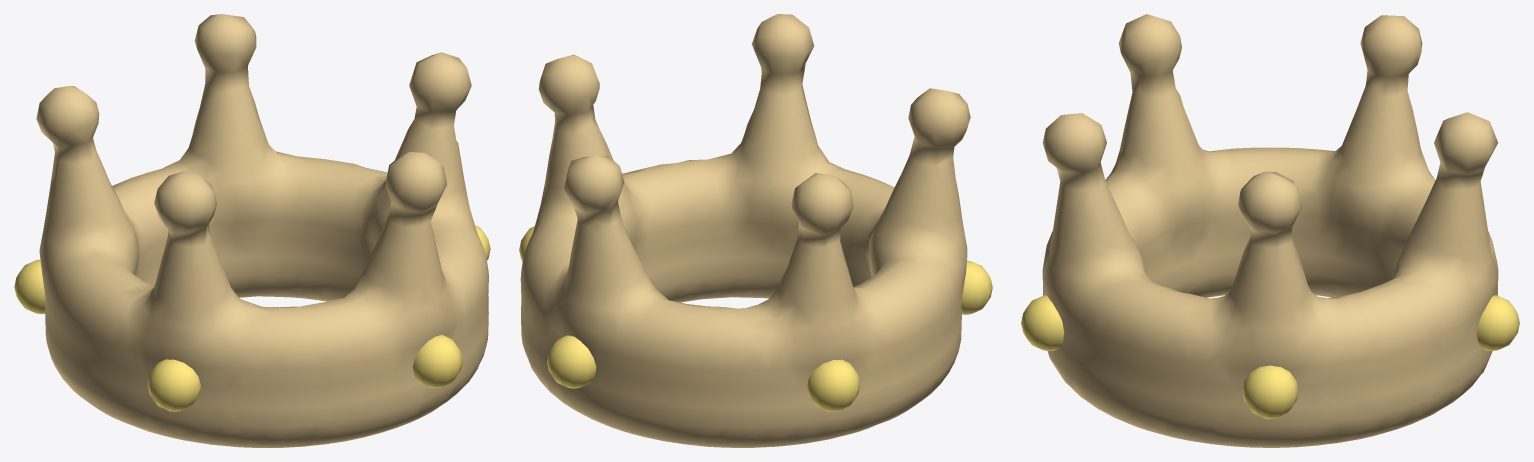
File: acc_crown.glb
3 renders of one model, left to right at view 1: azimuth 30°, elevation 25°; view 2: azimuth 150°, elevation 25°; view 3: azimuth 270°, elevation 25°, orthographic. The views are drawn at different scales.
Parts seen in each view (by area): view 1: body, center; view 2: body, center; view 3: body, center.
Boxes of the visible parts, left/top/right/bottom form: body: left=36, top=14, right=488, bottom=447; center: left=14, top=225, right=490, bottom=411; body: left=520, top=14, right=970, bottom=447; center: left=519, top=226, right=992, bottom=411; body: left=1042, top=14, right=1498, bottom=447; center: left=1021, top=295, right=1519, bottom=418.
Bounding box in the file's own units: 0.4516 × 0.285 × 0.461.
